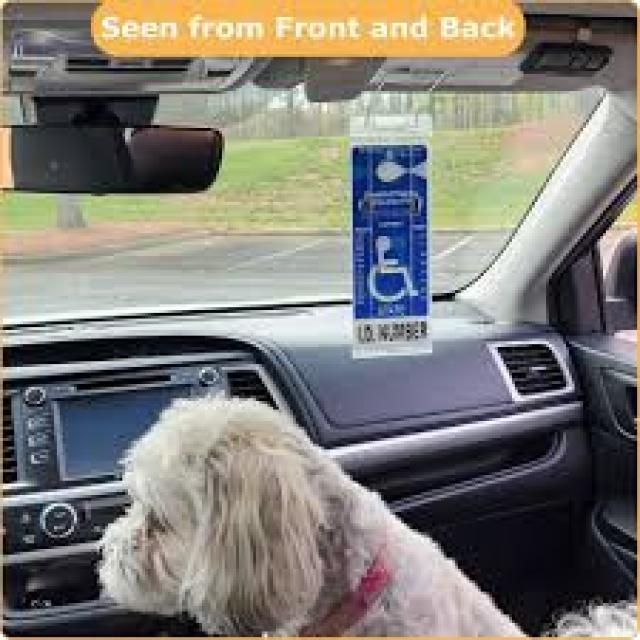symbol_of_access: (368, 236, 419, 304)
